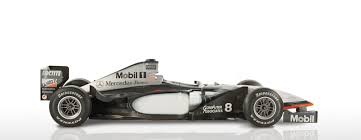f1_car: (35, 54, 323, 137)
